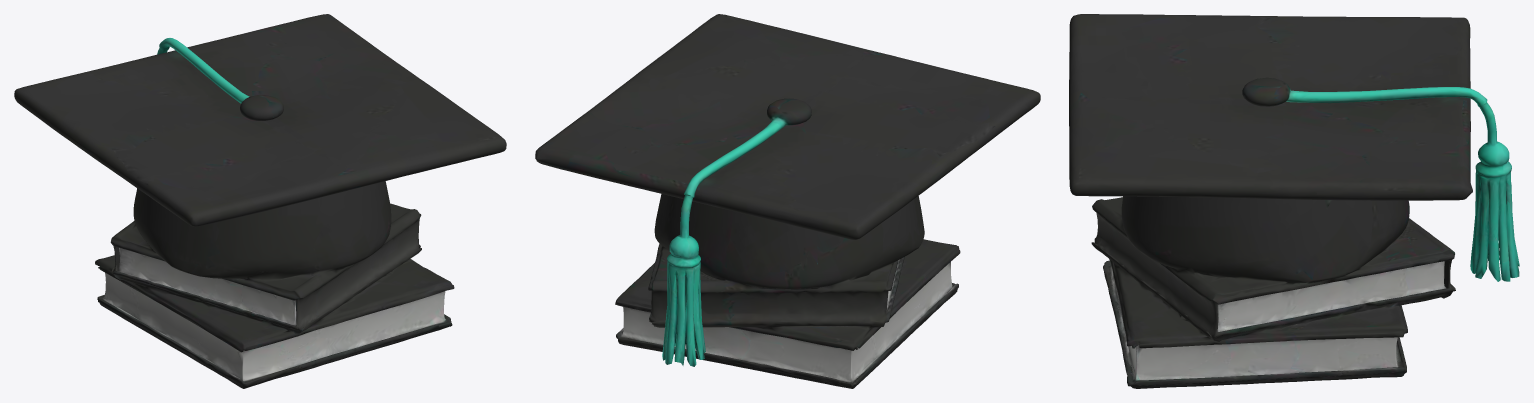
File: cap.glb
3 renders of one model, left to right at view 1: azimuth 30°, elevation 25°; view 2: azimuth 150°, elevation 25°; view 3: azimuth 270°, elevation 25°, orthographic. The views are drawn at different scales.
Parts seen in each view (by area): view 1: tripo_node_6d8c0fbf-9129-40c5-a034-910ce015ffcd; view 2: tripo_node_6d8c0fbf-9129-40c5-a034-910ce015ffcd; view 3: tripo_node_6d8c0fbf-9129-40c5-a034-910ce015ffcd.
Part boxes in pixels (x1,y1,x2,y2): tripo_node_6d8c0fbf-9129-40c5-a034-910ce015ffcd: (14,14,506,388); tripo_node_6d8c0fbf-9129-40c5-a034-910ce015ffcd: (535,14,1040,388); tripo_node_6d8c0fbf-9129-40c5-a034-910ce015ffcd: (1069,14,1519,388).
Bounding box in the file's own units: 0.9042 × 0.5813 × 1.
1 material, 1 textured.
